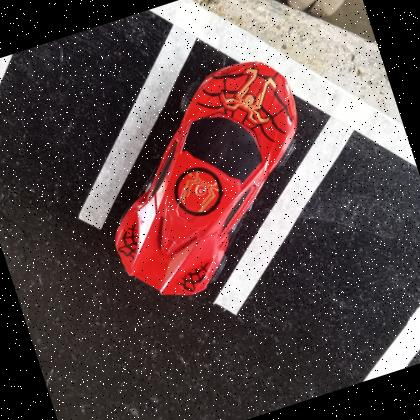Car: (114, 59, 297, 295)
